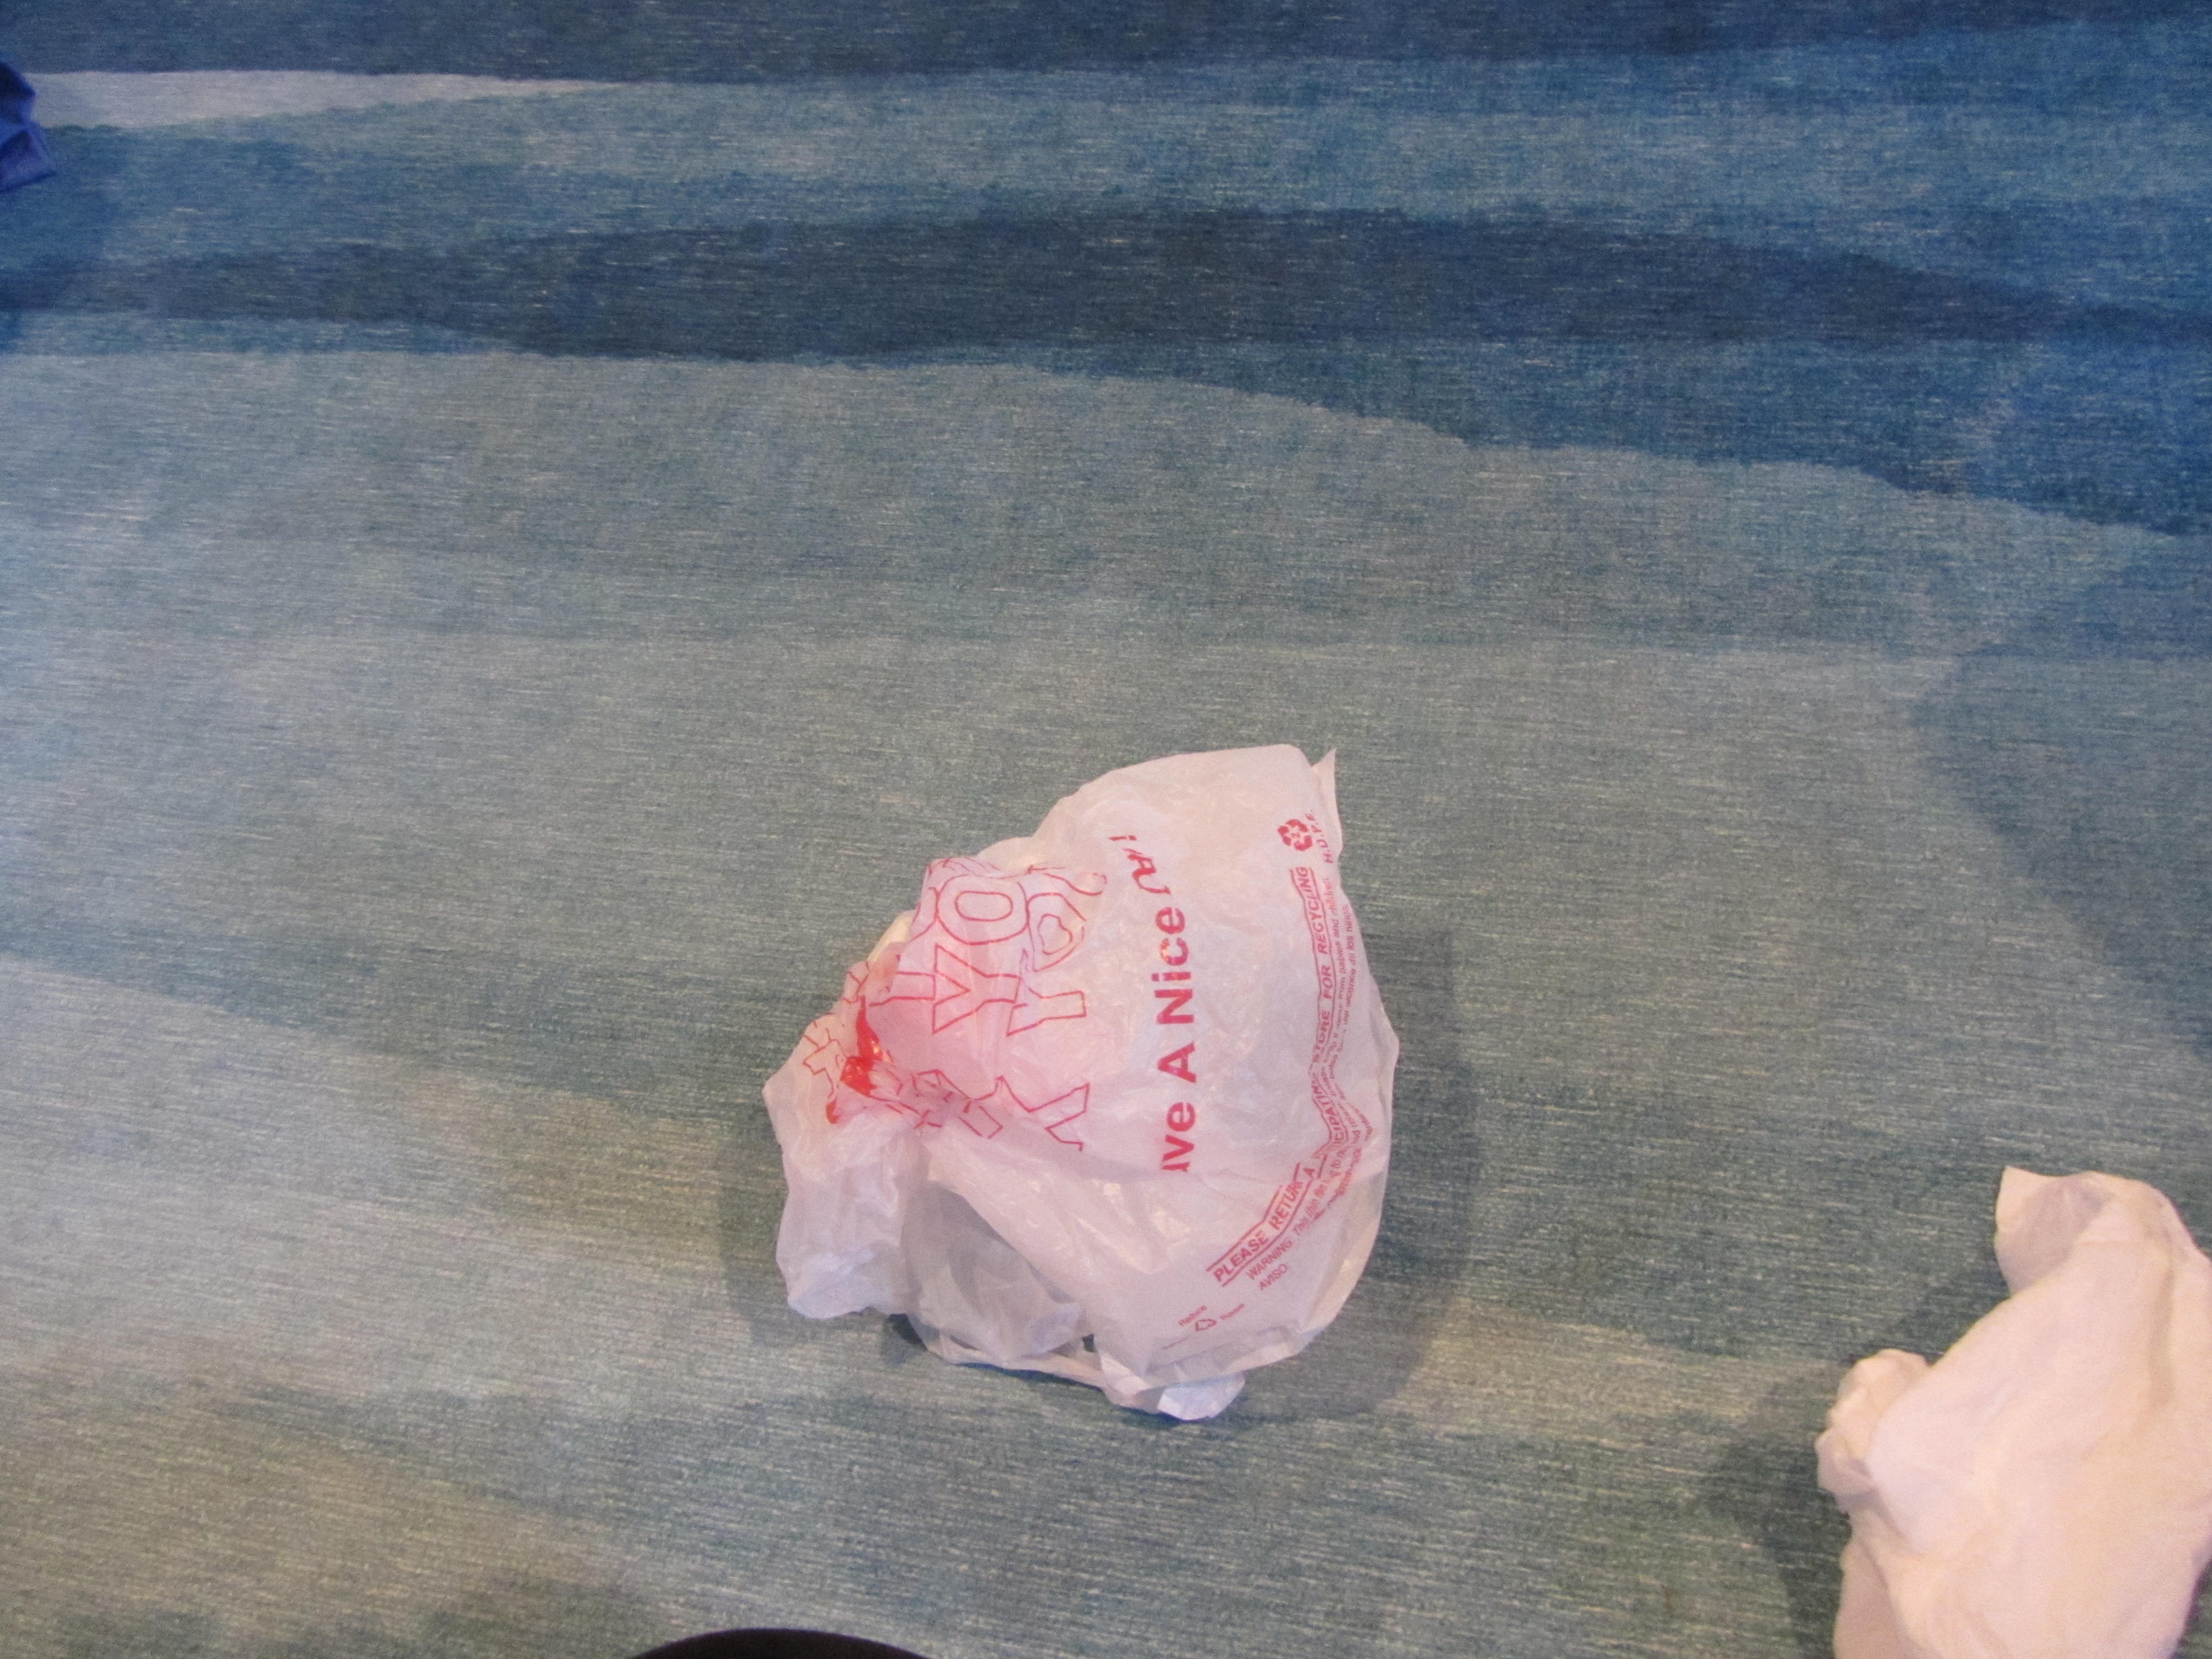plastic_bag: (728, 751, 1399, 1450)
